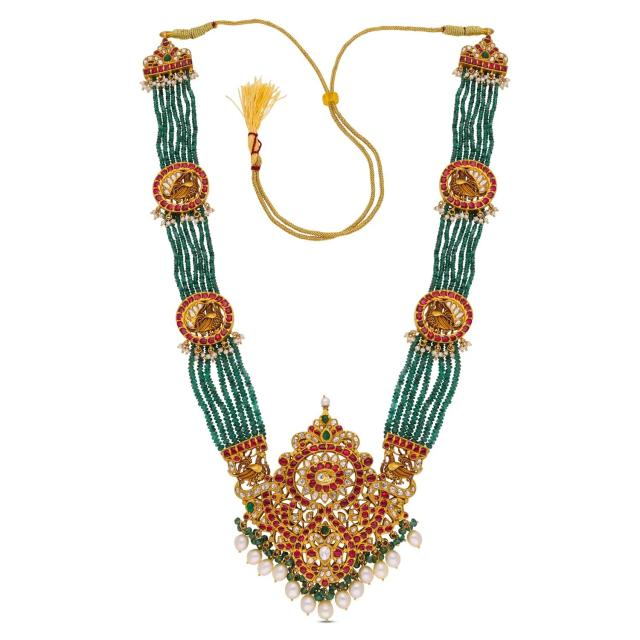missing gem: (317, 471, 334, 483), (396, 505, 404, 515)
